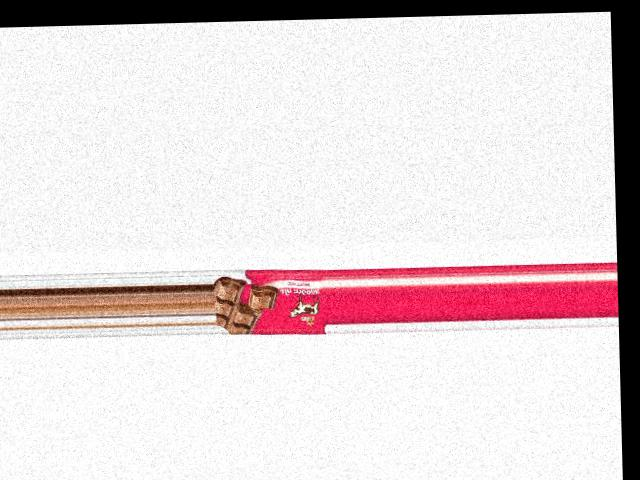chocolate: (213, 267, 327, 334)
